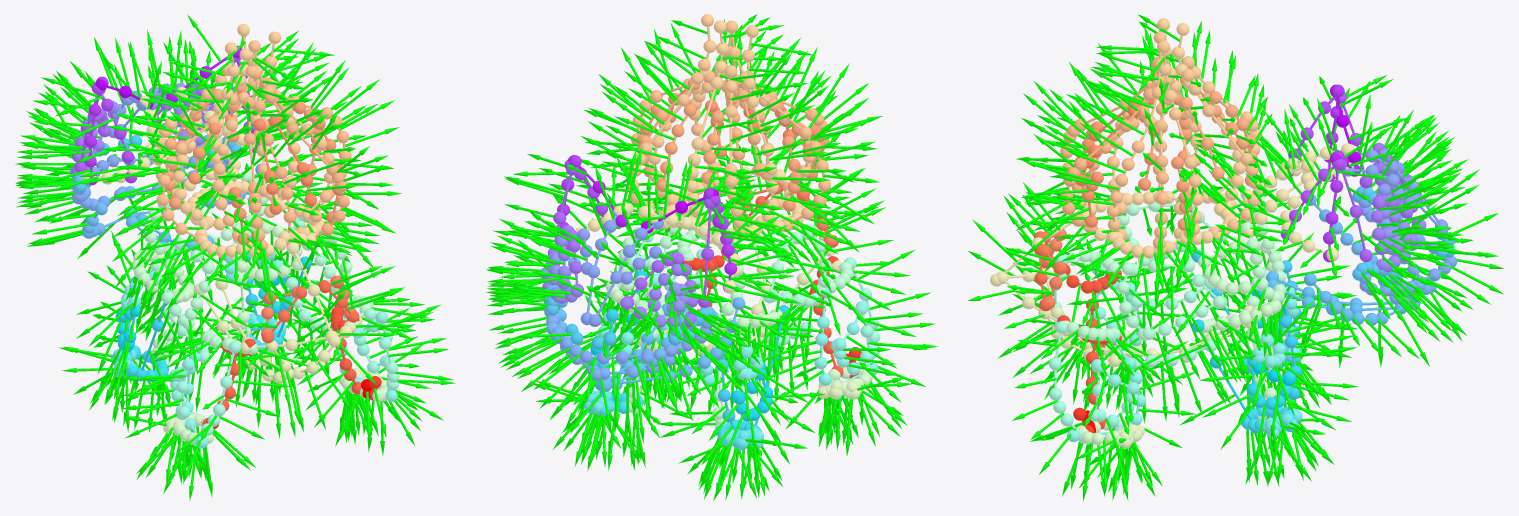
Rendered from author1_bulbasaur.gltf.
3 views of the same model, side by side, from view 1: azimuth 30°, elevation 25°; view 2: azimuth 150°, elevation 25°; view 3: azimuth 270°, elevation 25° (orthographic). The views are drawn at different scales.
Bounding box in the file's own units: 0.5669 × 0.7237 × 0.8228.
